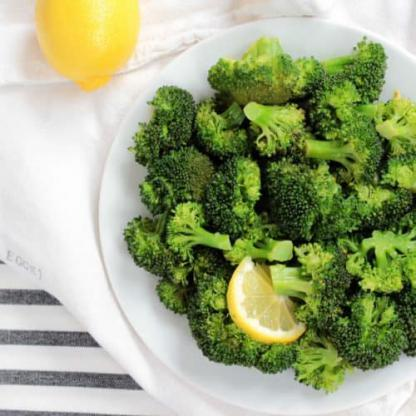broccoli: (121, 31, 416, 394)
